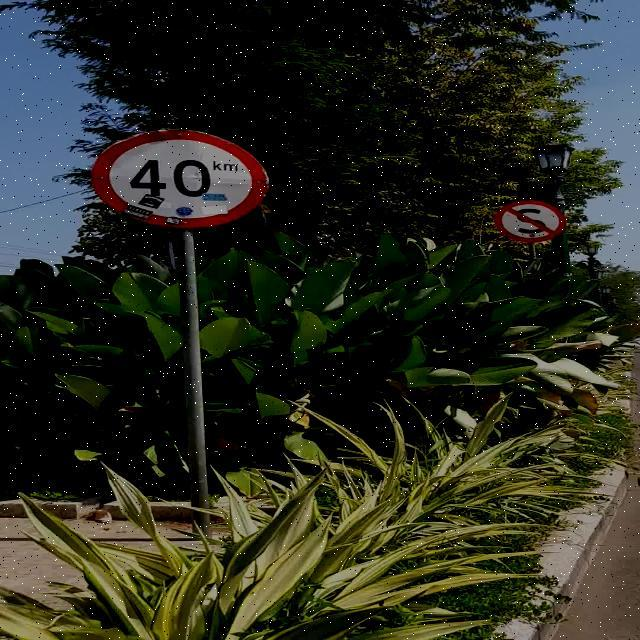Kecepatan Maks. 40 km: (90, 128, 269, 228)
